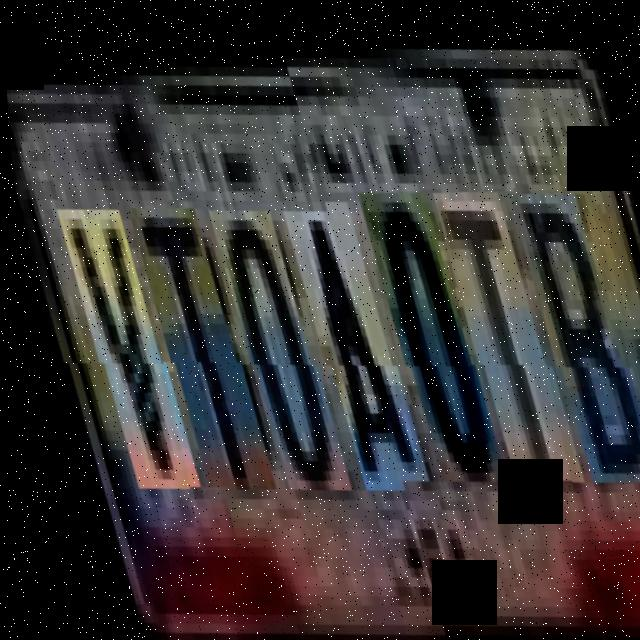A: (281, 192, 418, 491)
B: (508, 176, 640, 486)
O: (357, 179, 497, 490), (205, 195, 338, 492)
T: (433, 178, 573, 488), (127, 195, 263, 495)
V: (55, 198, 188, 496)
